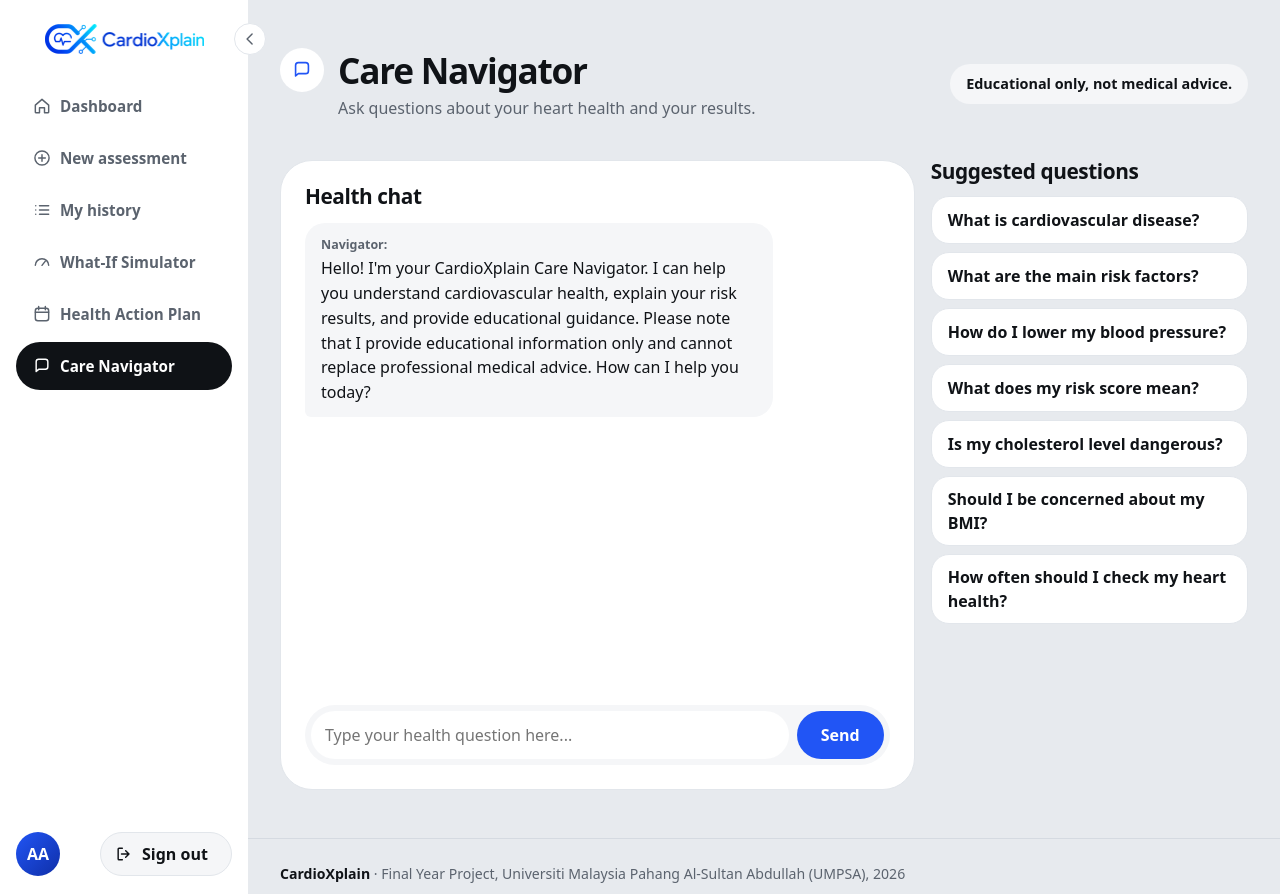
it: send disabled while waiting
This screenshot has width=1280, height=894.
In the field named "Your question": (550, 735) [311,711,789,759], type "Hello"
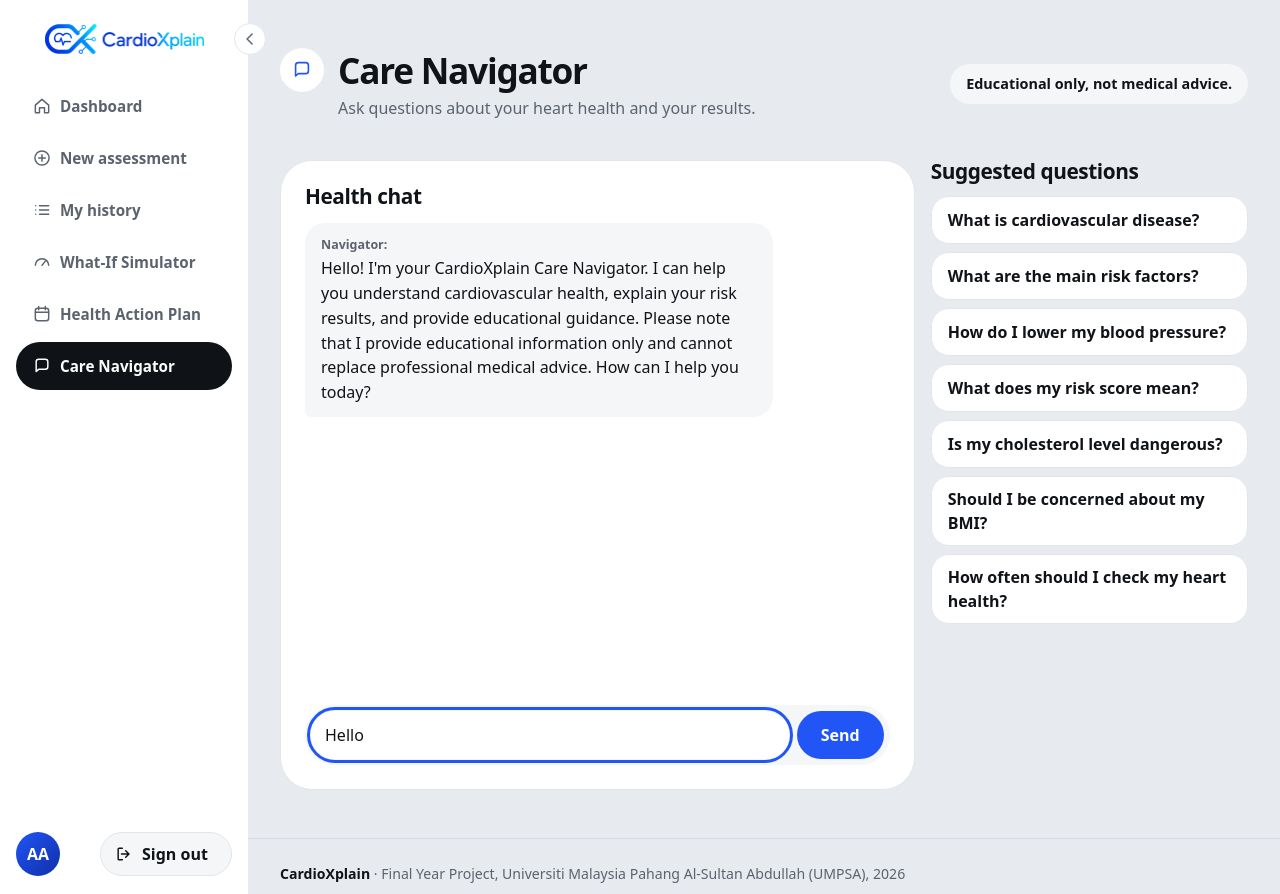
Click the button "Send": click(840, 735) [797,711,884,759]
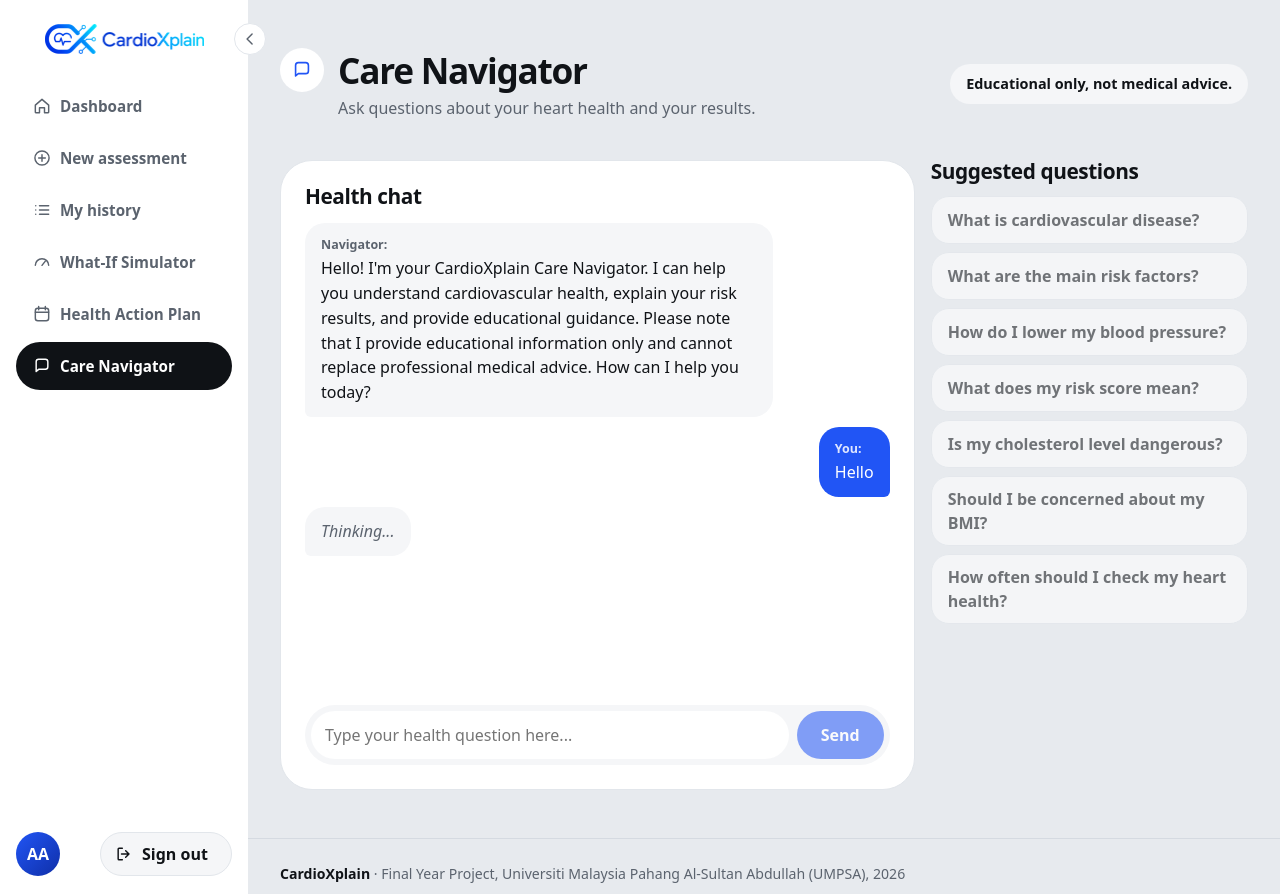
Check: the list item "Thinking..." is shown, box [305,507,410,556]
Check: the button "Send" is disabled, box [797,711,884,759]
